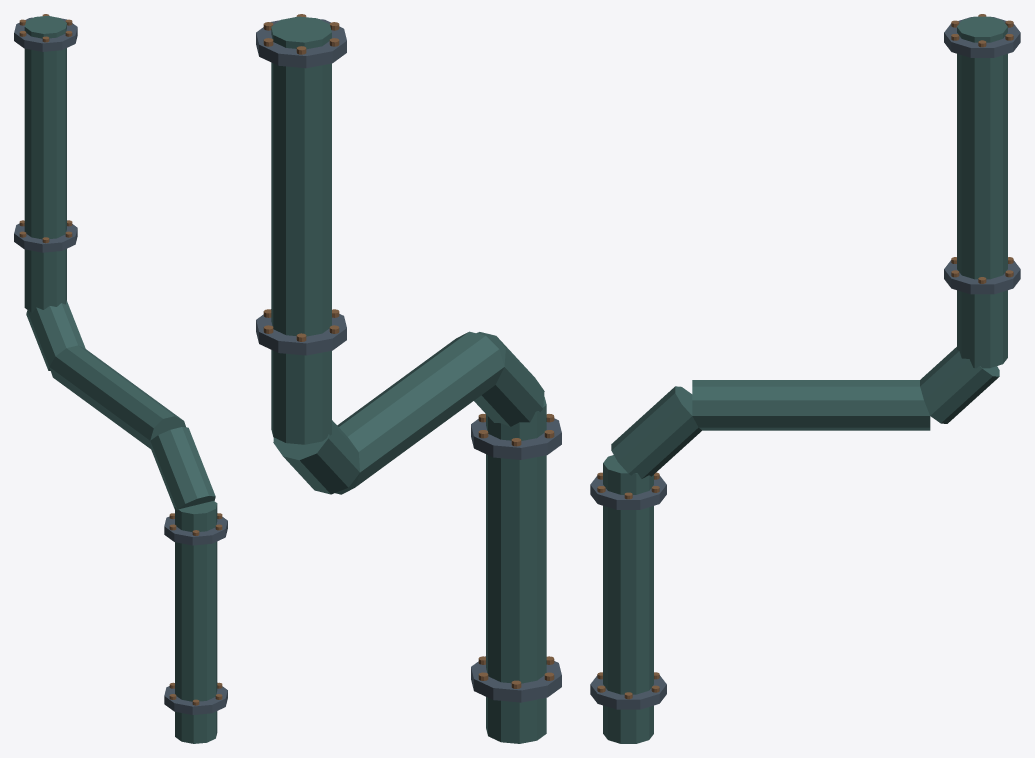
The model's file is R-24_pump_riser.glb.
3 renders of one model, left to right at view 1: azimuth 30°, elevation 25°; view 2: azimuth 150°, elevation 25°; view 3: azimuth 270°, elevation 25°, orthographic. The views are drawn at different scales.
Parts seen in each view (by area): view 1: R-24_pump_riser; view 2: R-24_pump_riser; view 3: R-24_pump_riser.
Part boxes in pixels (box(x1,y1,x2,y2)): R-24_pump_riser: box(14, 14, 227, 743); R-24_pump_riser: box(256, 14, 561, 743); R-24_pump_riser: box(590, 14, 1020, 743).
Size of the model in its own units: 0.1255 by 1.35 by 0.742.
